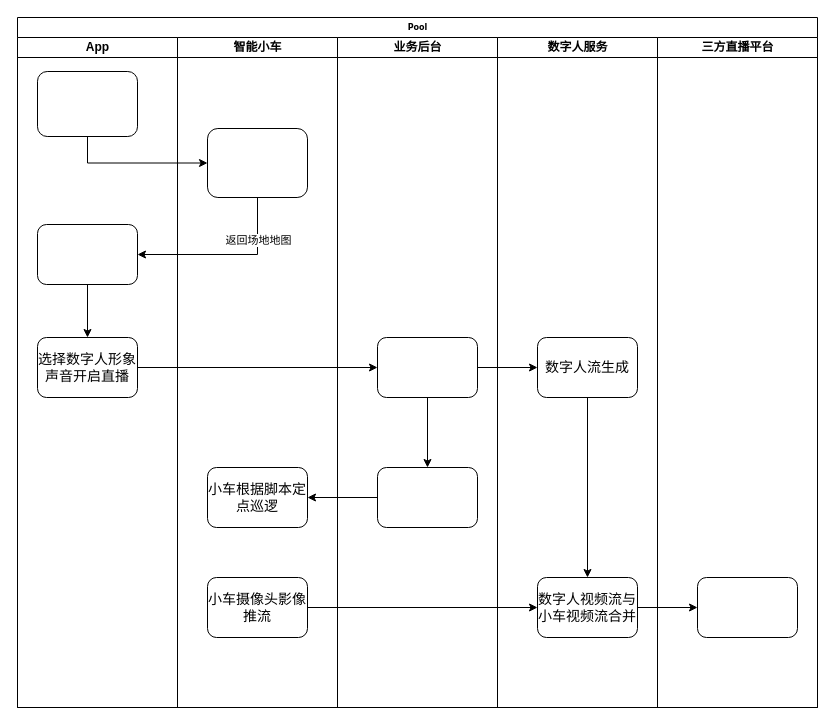
The diagram is 835 pixels wide and 725 high, and some of its shapes have lost their labels. Each missing label, with the centre of its shape:
下发小车巡逻命令: the point at 427,497
制作多段直播文案， 每段文案指定小车巡逻点位: the point at 87,254
发起小车场地建模指令: the point at 87,103
小车开始在场地地图建模: the point at 257,163
开启直播间: the point at 427,367
推流到第三方直播平台: the point at 747,607
